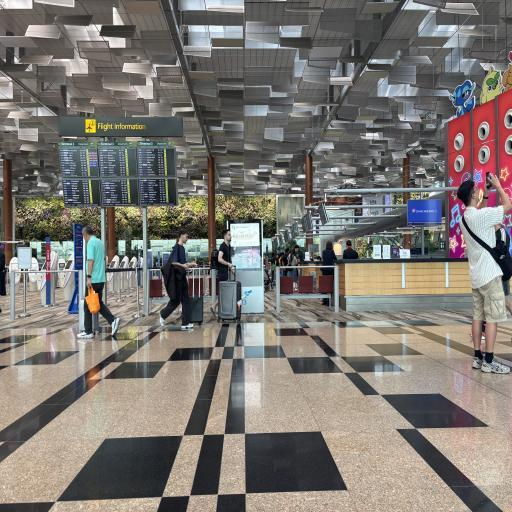person_with_luggage_left: (73, 221, 119, 345)
person_with_luggage_right: (160, 224, 206, 332), (206, 221, 250, 325)
